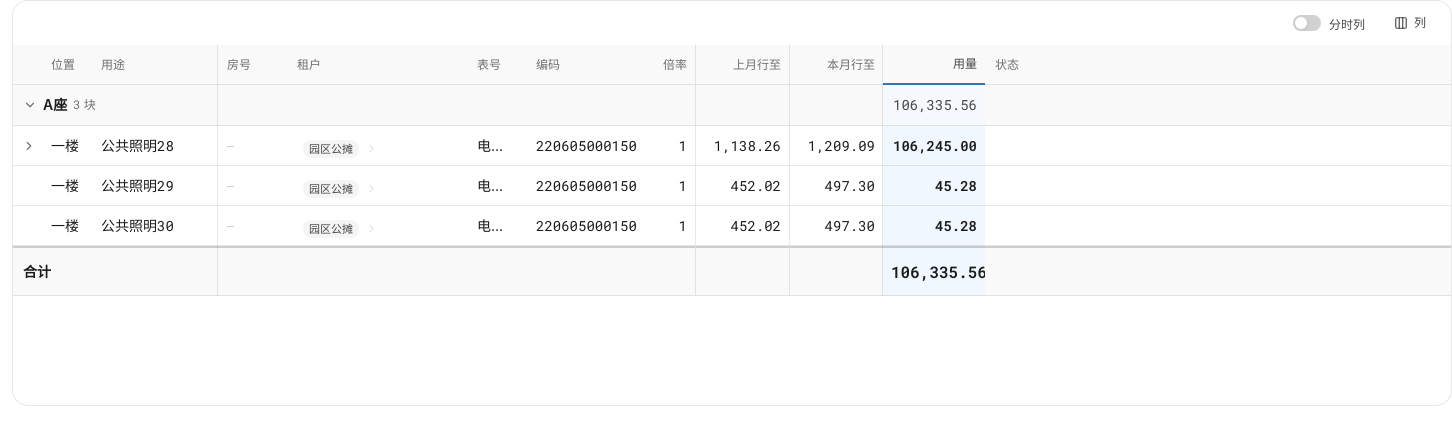
Test: P4-C5 · 组头兼小计、组尾停用行(表格接线) › row 模式:分时表那一行 › 点开出 峰段 / 平段 / 谷段,值是各段上月 / 本月 / 用量
The image size is (1452, 423).
Click the button with class "mlg-exp". click: (29, 146)
box: [17,134,41,158]
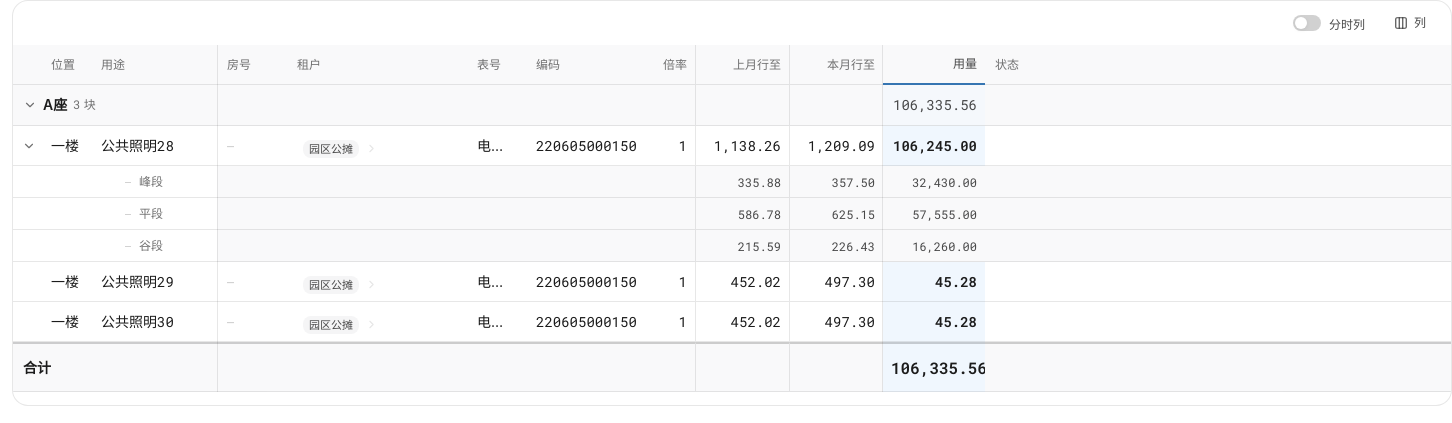
Expected: the elements with class "mlg-nv" read "335.88", "357.50", in this order, [738,174,781,190]; [832,174,875,190]
Expected: the text with class "mlg-sumc" reads "32,430.00", [912,174,977,190]
